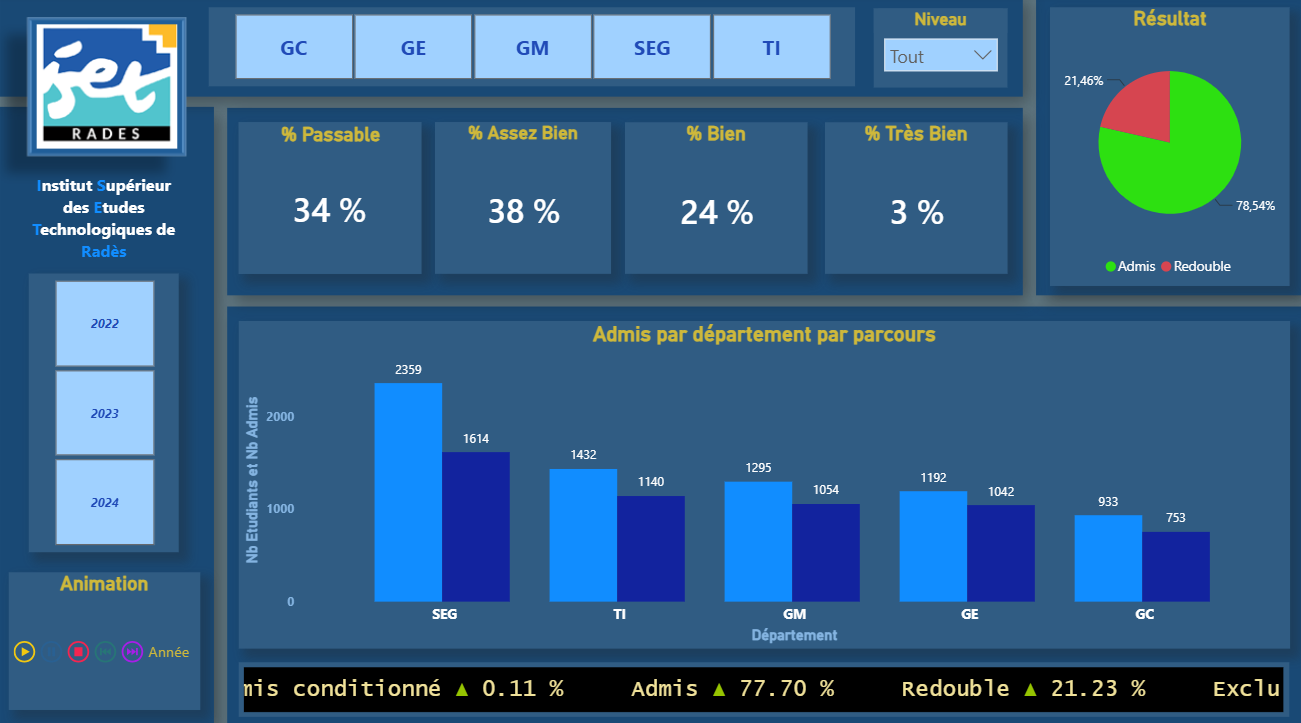

This screenshot's page, from the dashboard's own definition file:
{"tool":"powerbi","page":{"name":"Page 1","canvas":[1280,720],"ordinal":0},"visuals":[{"type":"slicer","fields":{"Values":["projet.Département"]},"box":[204.9,11,634.4,77.3],"z":0},{"type":"slicer","title":"Niveau","fields":{"Values":["projet.Niveau"]},"box":[857.7,12.3,131.3,77.3],"z":1000},{"type":"cardVisual","title":"% Passable","fields":{"Data":["projet.% Passable"]},"box":[234.4,123.9,179.1,148.5],"z":2000},{"type":"cardVisual","title":"% Assez Bien","fields":{"Data":["projet.% Assez Bien"]},"box":[427,123.9,173,148.5],"z":3000},{"type":"cardVisual","title":"% Bien","fields":{"Data":["projet.% Bien"]},"box":[613.5,123.9,179.1,148.5],"z":4000},{"type":"cardVisual","title":"% Très Bien","fields":{"Data":["projet.% Très Bien"]},"box":[809.8,123.9,179.1,148.5],"z":5000},{"type":"pieChart","title":"Résultat","fields":{"Category":["projet.Constatation"],"Y":["projet.Nb Etudiants"]},"box":[1030.7,11,235.6,273.6],"z":6000},{"type":"clusteredColumnChart","title":"Admis par département par parcours","fields":{"Category":["projet.Département"],"Y":["projet.Nb Etudiants","projet.Nb Admis"]},"box":[234.4,319,1031.9,321.5],"z":7000},{"type":"slicer","fields":{"Values":["projet.Année"]},"box":[28.2,272.4,147.2,273.6],"z":8000},{"type":"textbox","box":[22.1,169.3,159.5,115.3],"z":9000},{"type":"PBI_CV_16948668_E17D_454B_8664_2F2C470EA8C1","title":"Animation","fields":{"category":["projet.Année"]},"box":[8.6,565.6,187.7,135],"z":10000},{"type":"ScrollingTextVisual1448795304508","fields":{"Category":["scrollercat.Cat"],"Measure Deviation":["scrollercat.% Scroller"]},"box":[234.4,654,1031,54],"z":11000}]}

Visuals, with their boxes in screenshot pixels (x1, y1, x2, y2), scaled from the page's 1280x720 canvas onto the 1301x723 screenshot:
slicer - projet.Département: [x1=208, y1=11, x2=853, y2=89]
"Niveau" slicer: [x1=872, y1=12, x2=1005, y2=90]
"% Passable" cardVisual: [x1=238, y1=124, x2=420, y2=274]
"% Assez Bien" cardVisual: [x1=434, y1=124, x2=610, y2=274]
"% Bien" cardVisual: [x1=624, y1=124, x2=806, y2=274]
"% Très Bien" cardVisual: [x1=823, y1=124, x2=1005, y2=274]
"Résultat" pieChart: [x1=1048, y1=11, x2=1287, y2=286]
"Admis par département par parcours" clusteredColumnChart: [x1=238, y1=320, x2=1287, y2=643]
slicer - projet.Année: [x1=29, y1=274, x2=178, y2=548]
textbox: [x1=22, y1=170, x2=185, y2=286]
"Animation" PBI_CV_16948668_E17D_454B_8664_2F2C470EA8C1: [x1=9, y1=568, x2=200, y2=704]
ScrollingTextVisual1448795304508 - scrollercat.Cat x scrollercat.% Scroller: [x1=238, y1=657, x2=1286, y2=711]
